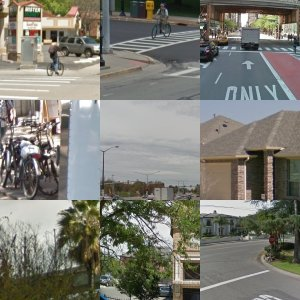汽車: (250, 40, 297, 75), (118, 185, 150, 201), (56, 243, 81, 257), (32, 66, 53, 82)
消防栓: (222, 120, 263, 199), (131, 23, 171, 99), (226, 239, 253, 281)
紅綠燈: (107, 161, 125, 183), (181, 166, 195, 189)
自行車: (2, 124, 41, 171)
行人穿越道: (24, 80, 86, 88)
